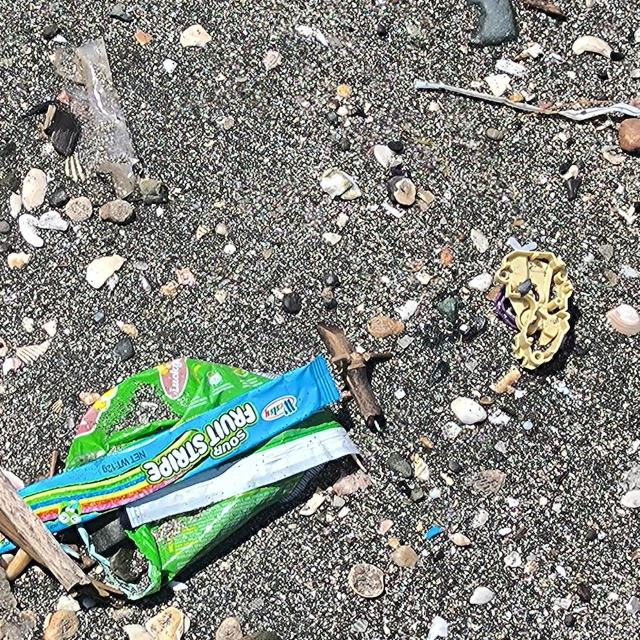plastic_waste: (65, 356, 357, 601)
